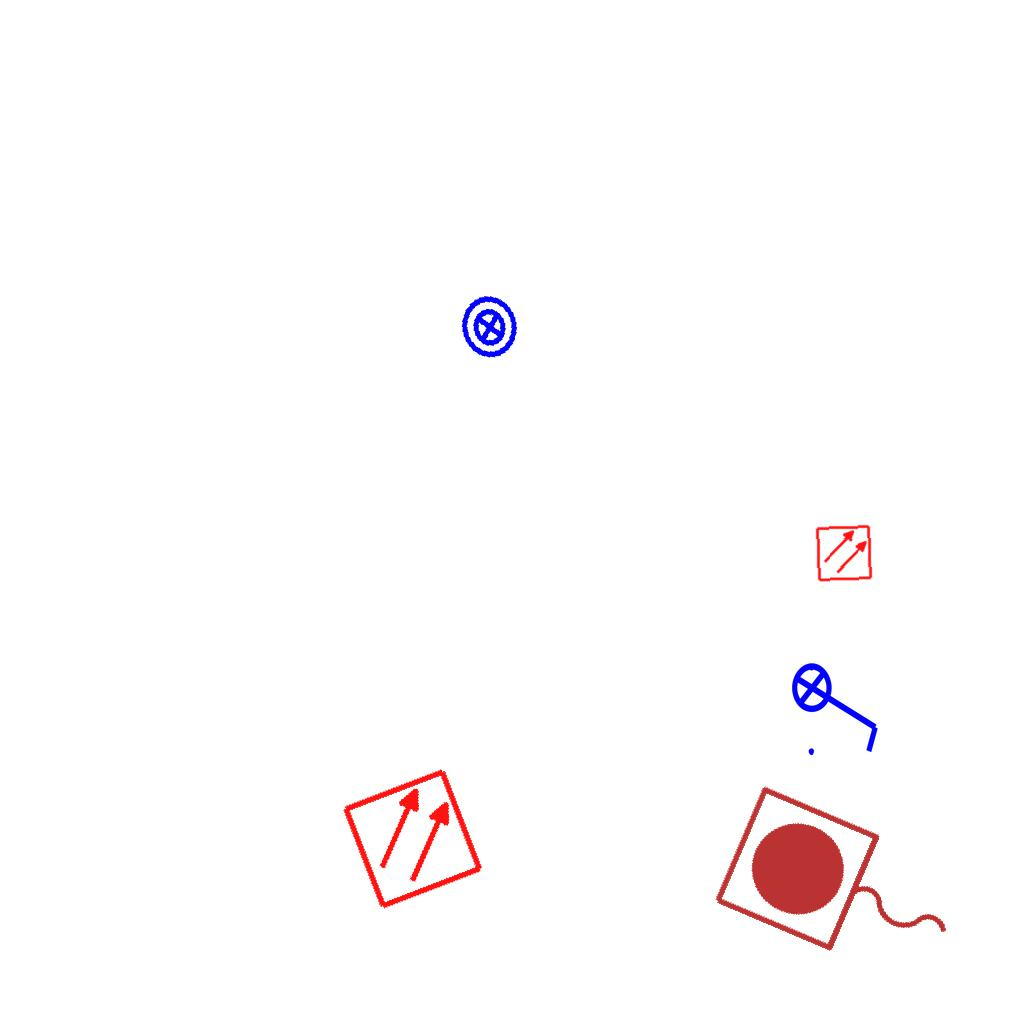Ausschalter_beleuchtet: (790, 649, 886, 761)
RMO_Rauchmelder_optischer: (339, 765, 486, 912), (815, 524, 873, 582)
Taster_beleuchtet: (451, 288, 529, 366)
Zugtaster: (702, 776, 984, 1004)
